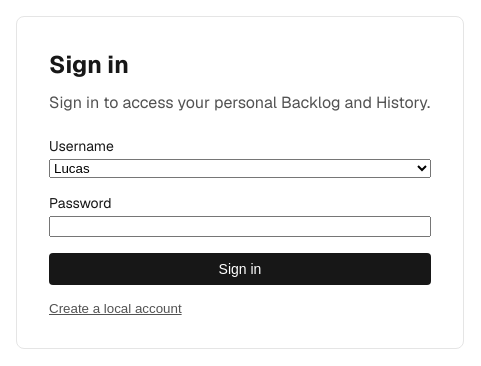
AuthClient › selects a local account and only requests its password when required
Check: the password field labelled "Password" is shown, box [49,216,431,236]
Select "guest" in the dropdown labelled "Username": (240, 168) [49,158,431,178]
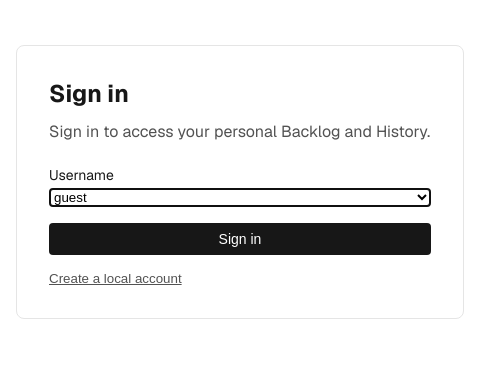
Check: the label labelled "Password" is gone
